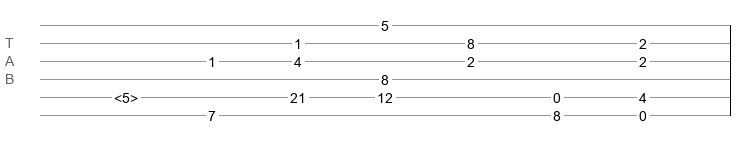0: (553, 90, 561, 100), (639, 108, 647, 118)
1: (208, 54, 216, 64), (294, 36, 302, 46)
12: (377, 90, 393, 100)
2: (467, 54, 475, 64), (639, 36, 647, 46), (639, 54, 647, 64)
21: (290, 90, 306, 100)
4: (294, 54, 302, 64), (639, 90, 647, 100)
5: (381, 18, 389, 28)
7: (208, 108, 216, 118)
8: (381, 72, 389, 82), (467, 36, 475, 46), (553, 108, 561, 118)
harmonic: (114, 90, 138, 100)
